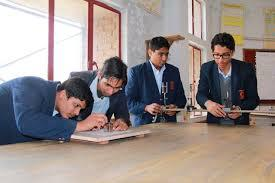Person: (199, 26, 253, 125), (7, 73, 88, 130), (124, 43, 181, 120), (76, 54, 121, 114)
